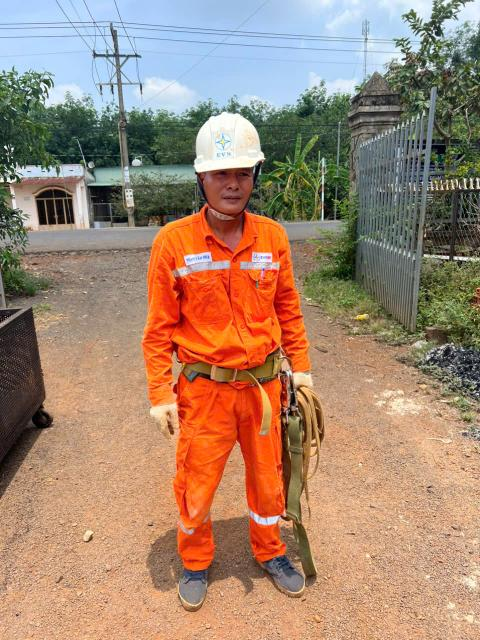gloves: (133, 392, 184, 443), (286, 372, 321, 410)
harness: (156, 336, 280, 389)
helmet: (163, 98, 274, 171)
shoes: (255, 539, 319, 608), (172, 557, 216, 614)
